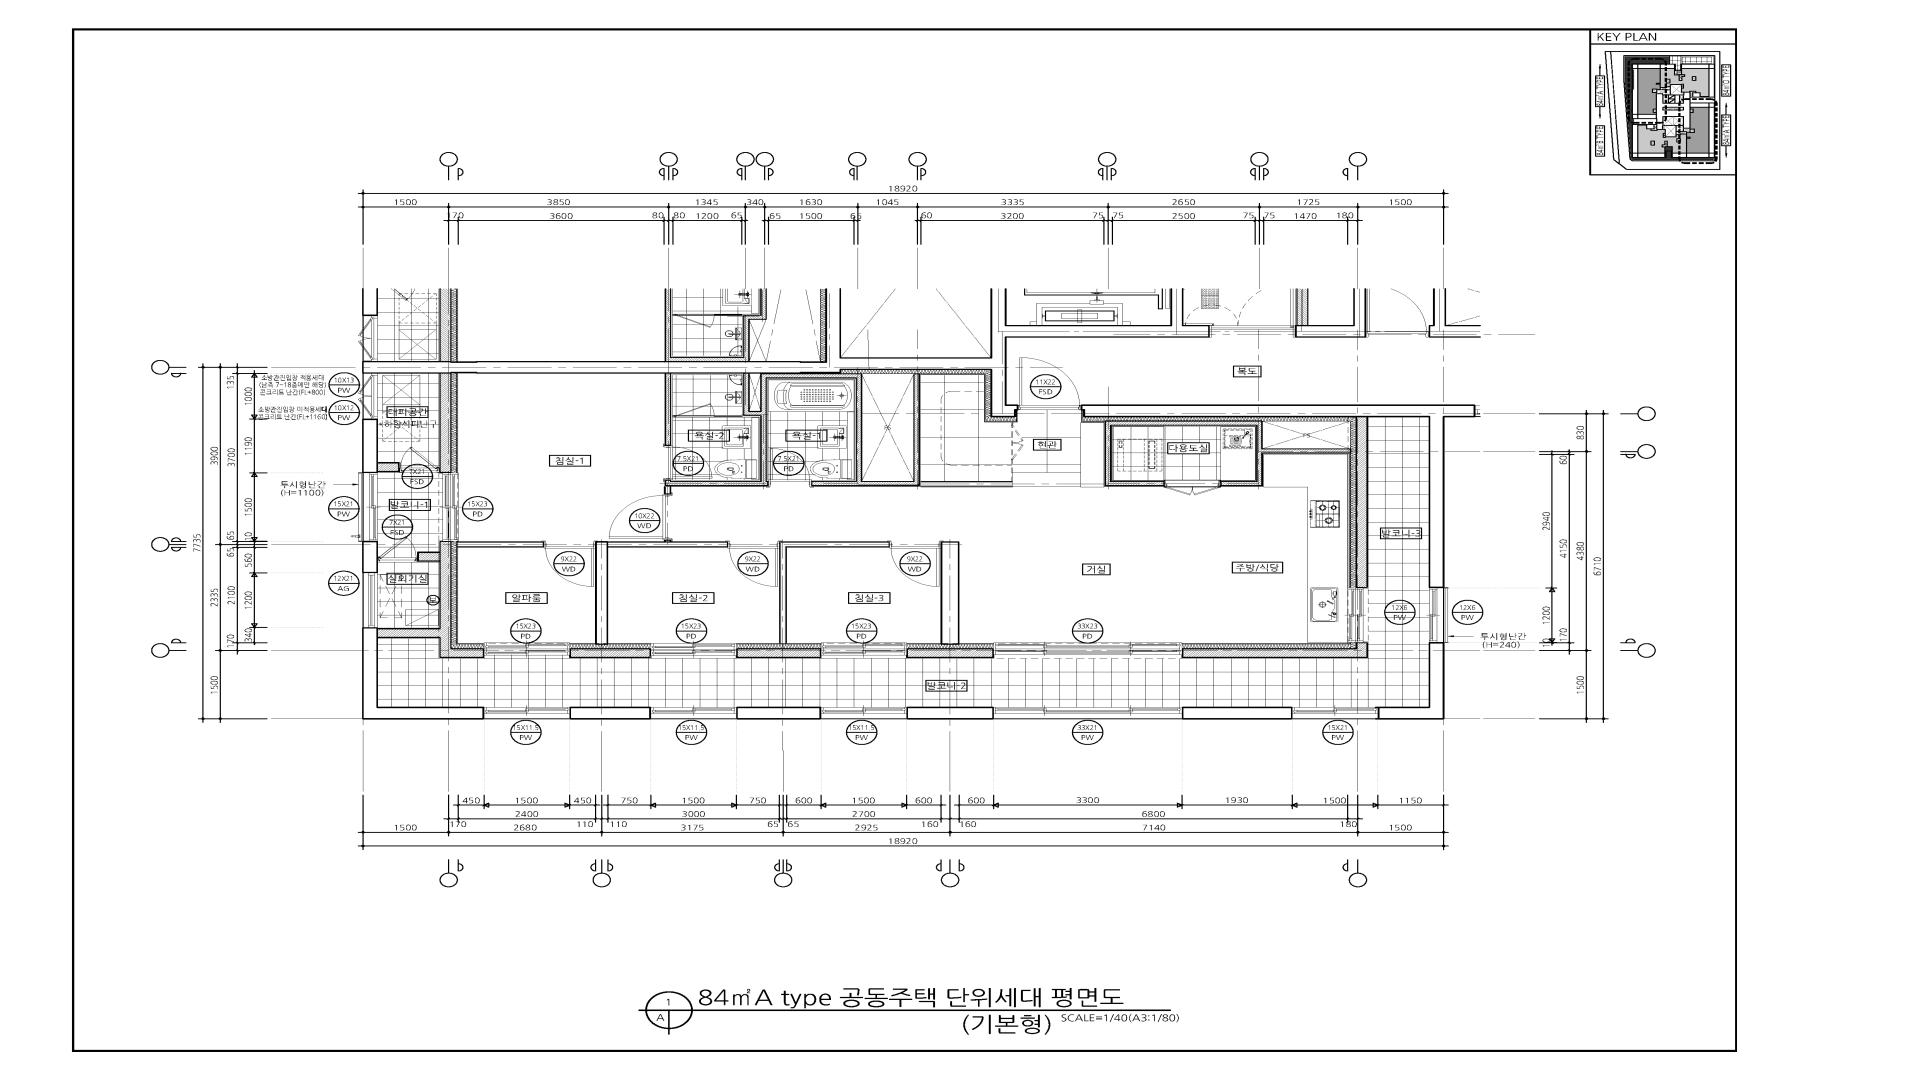door: (1018, 357, 1081, 410), (609, 493, 673, 542), (889, 541, 942, 587), (728, 541, 779, 587), (545, 541, 595, 587), (767, 447, 811, 487), (663, 446, 712, 480), (400, 447, 439, 473), (357, 373, 378, 419), (378, 537, 417, 562), (1164, 480, 1221, 496), (675, 404, 715, 418)
wall: (363, 324, 1209, 417), (1080, 405, 1476, 587), (663, 373, 920, 493), (1105, 421, 1352, 487), (595, 541, 728, 645), (377, 541, 484, 658), (779, 541, 889, 644), (363, 628, 484, 720), (1378, 642, 1444, 720), (1182, 642, 1369, 658), (1356, 418, 1369, 588), (940, 542, 960, 645), (1182, 707, 1292, 720), (439, 373, 451, 473), (907, 707, 993, 720), (737, 707, 820, 720), (570, 707, 650, 720), (665, 373, 676, 446), (363, 419, 378, 473), (1295, 326, 1366, 338), (906, 649, 993, 658), (736, 649, 822, 658), (570, 649, 651, 658), (1428, 324, 1481, 338), (456, 541, 545, 547), (920, 481, 1013, 487), (363, 542, 378, 572), (1348, 454, 1350, 588), (378, 462, 400, 472)
window: (993, 707, 1182, 720), (993, 642, 1182, 655), (820, 642, 907, 658), (359, 473, 377, 542), (651, 644, 736, 658), (650, 707, 737, 720), (484, 642, 570, 655), (484, 707, 570, 720), (443, 473, 459, 541), (820, 707, 907, 719), (1429, 587, 1448, 642), (1292, 707, 1378, 719), (1348, 588, 1364, 642), (363, 572, 377, 628)
